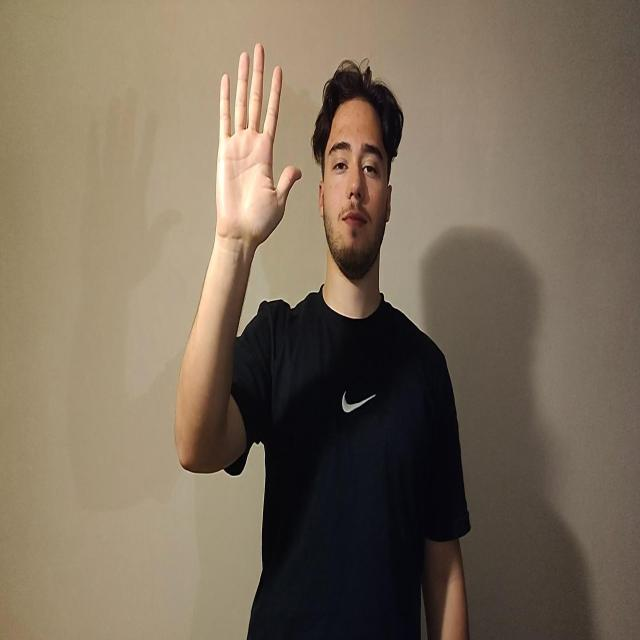hello: (214, 42, 302, 250)
